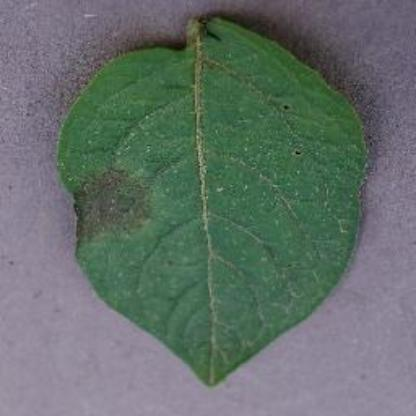Late-Blight: (47, 10, 379, 396)
